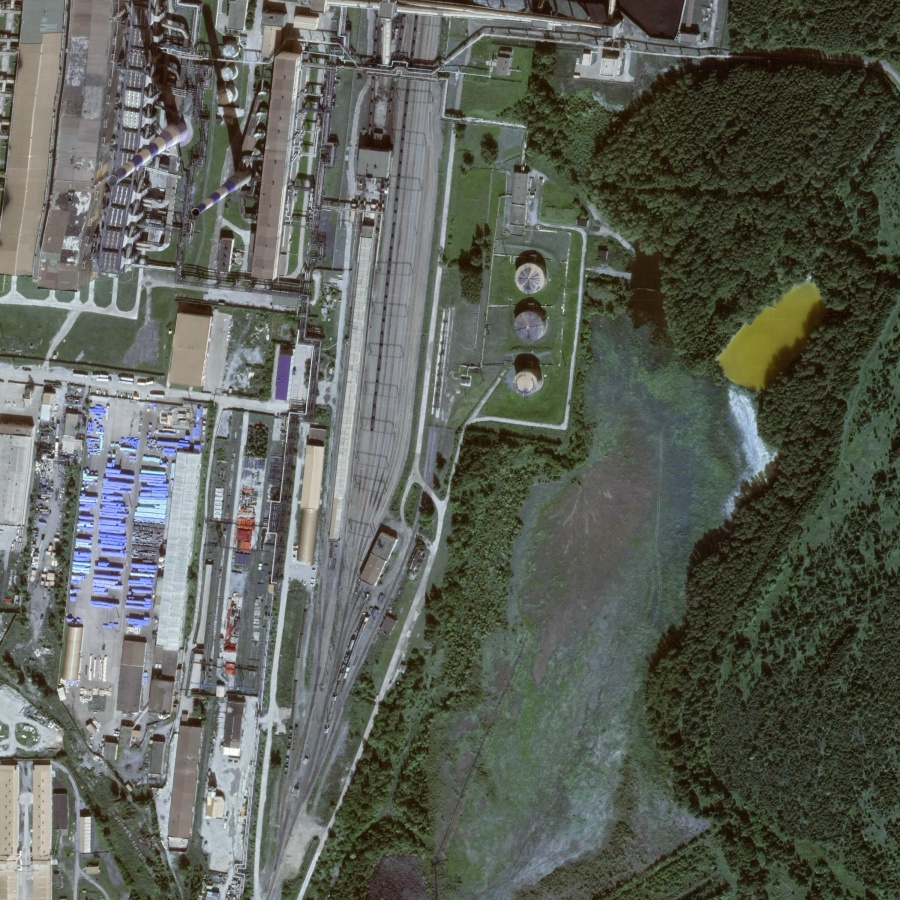PowerPlant: (436, 236, 584, 411)
